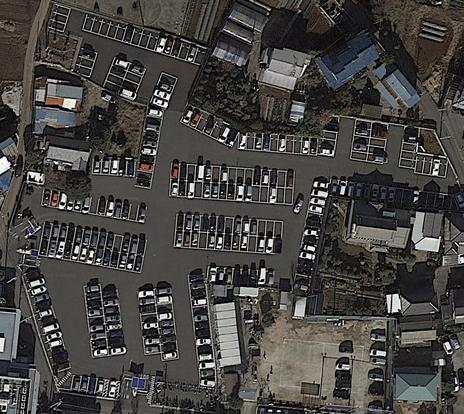parkingspot: (81, 13, 207, 67), (21, 268, 72, 375), (291, 180, 330, 295), (329, 178, 454, 212), (41, 220, 148, 257), (38, 238, 144, 275), (187, 273, 218, 391), (41, 189, 148, 223), (170, 162, 295, 189), (169, 179, 294, 206), (175, 212, 284, 239), (174, 230, 283, 255), (179, 105, 239, 149), (134, 107, 165, 190), (237, 132, 319, 157), (153, 288, 180, 362), (83, 284, 109, 358), (100, 290, 127, 357), (136, 288, 162, 356), (367, 332, 388, 413), (206, 266, 275, 289), (332, 343, 355, 402), (117, 63, 147, 102), (148, 71, 178, 110), (102, 56, 131, 96), (349, 118, 373, 162), (366, 121, 390, 165), (316, 115, 341, 157), (397, 126, 420, 170), (92, 157, 136, 178), (69, 374, 106, 398), (72, 46, 99, 78), (414, 153, 448, 178), (47, 3, 73, 33), (106, 380, 118, 400)
